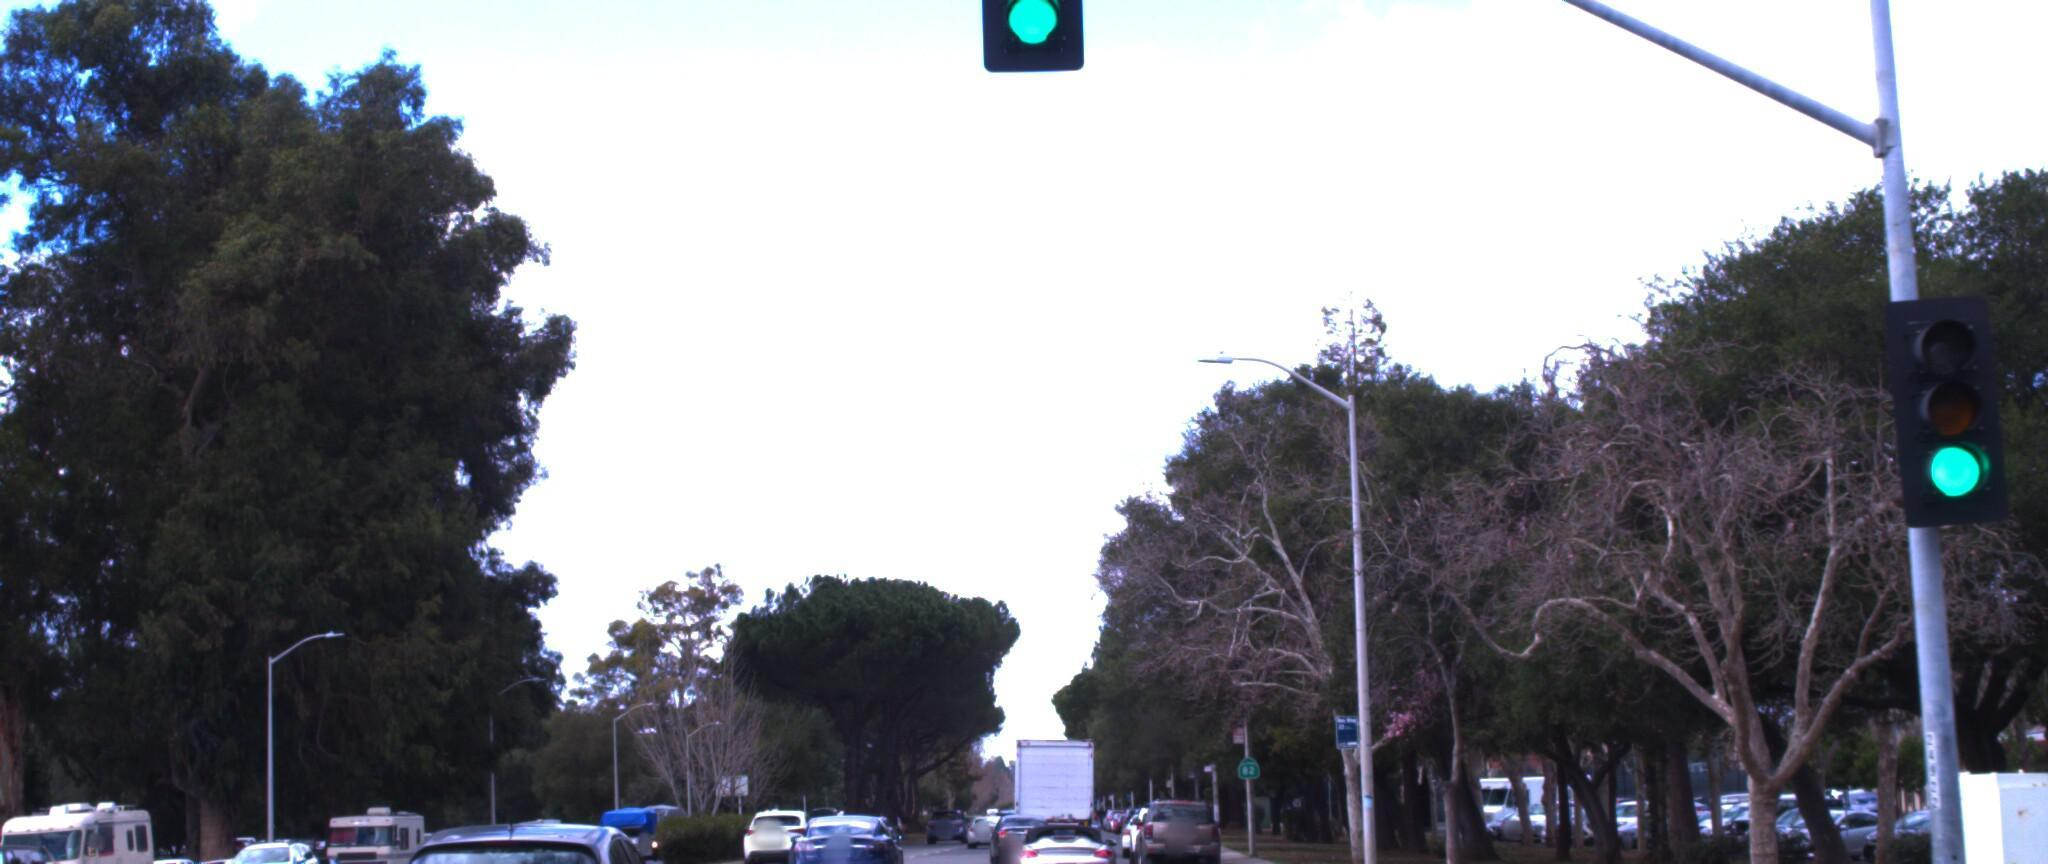car: (351, 788, 711, 864), (999, 775, 1125, 864), (782, 788, 912, 864), (1119, 767, 1219, 851), (210, 804, 340, 864), (739, 774, 827, 846)
other_vehicle: (0, 766, 180, 864)
